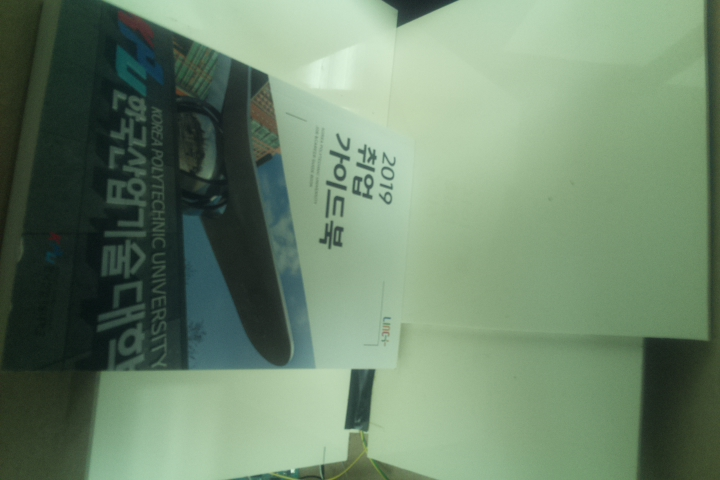book: (1, 1, 412, 376)
